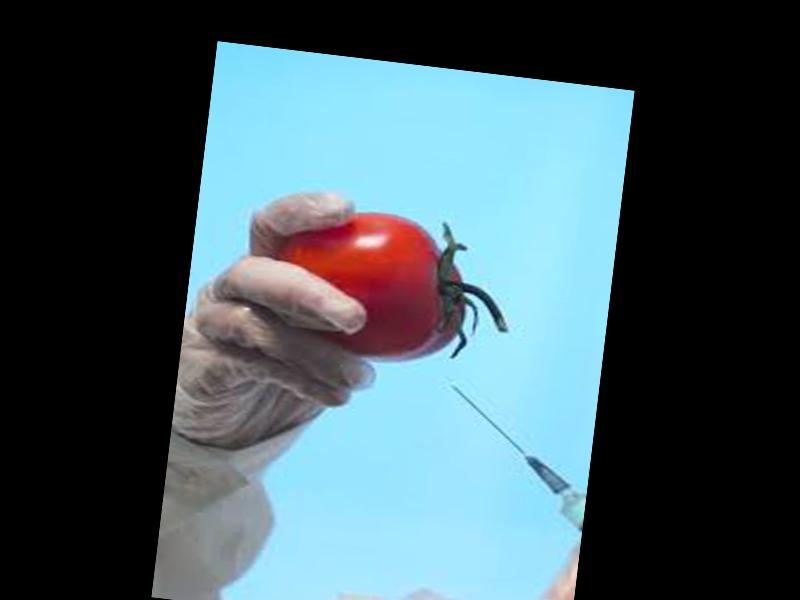Tomato: (266, 200, 474, 368)
